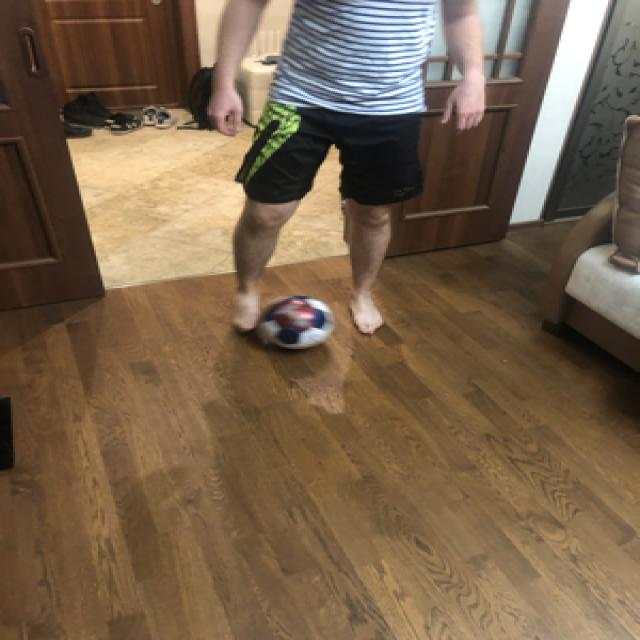soccer_ball: (254, 293, 331, 349)
